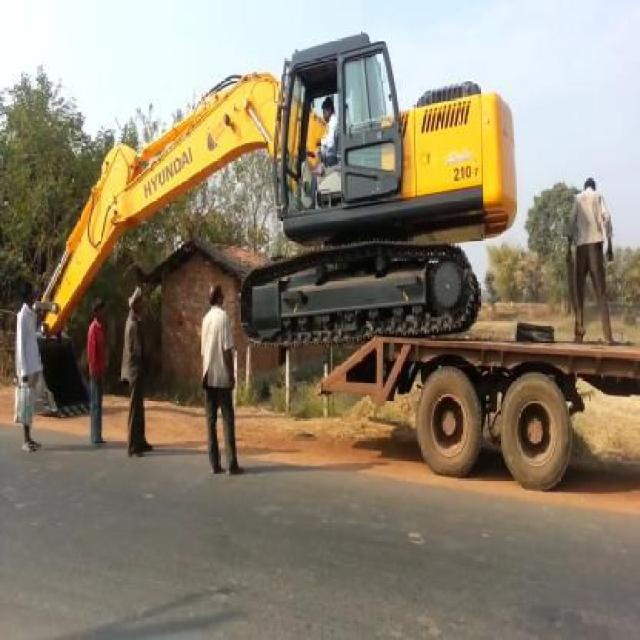excavator: (25, 28, 520, 423)
